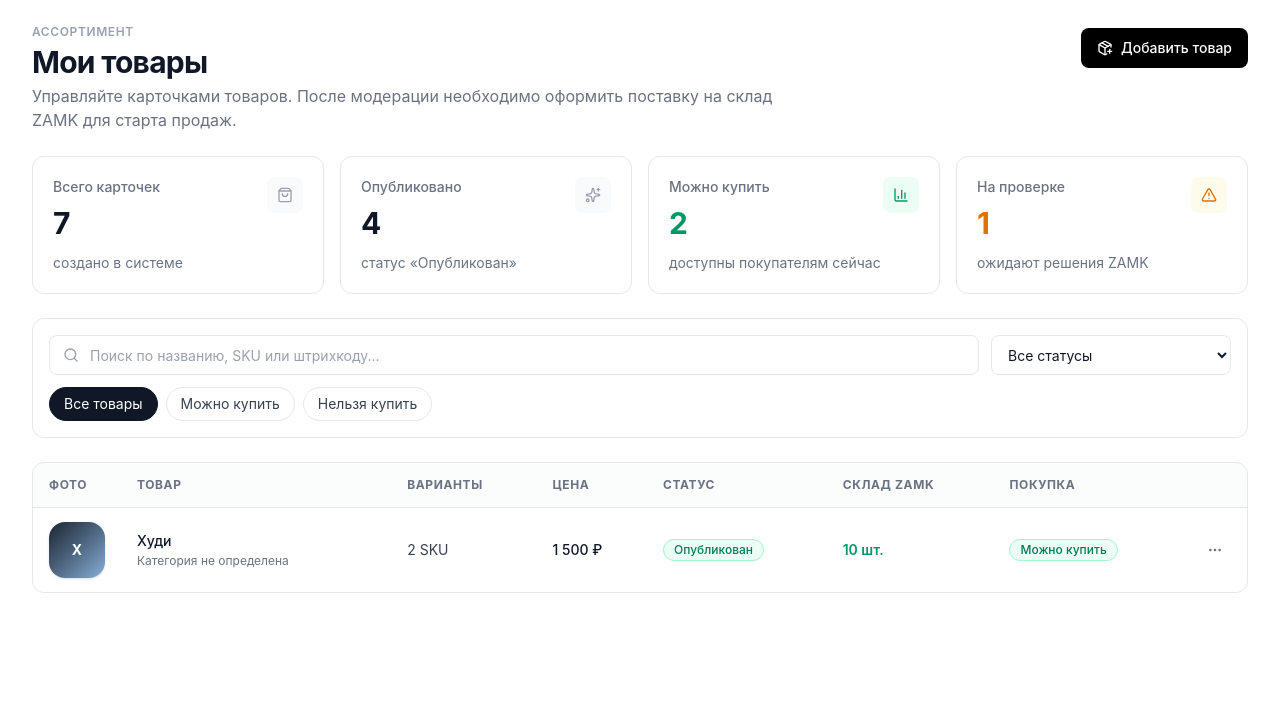
Scenario: SellerProducts — publication vs availability › G. a filter with no result shows a filtered empty state, not "no products yet"
The image size is (1280, 720).
Expected: the text "Худи" is shown, [137,532,172,549]
Click the button with test id "products-availability-unavailable".
click(368, 404)  # box [303,387,432,421]
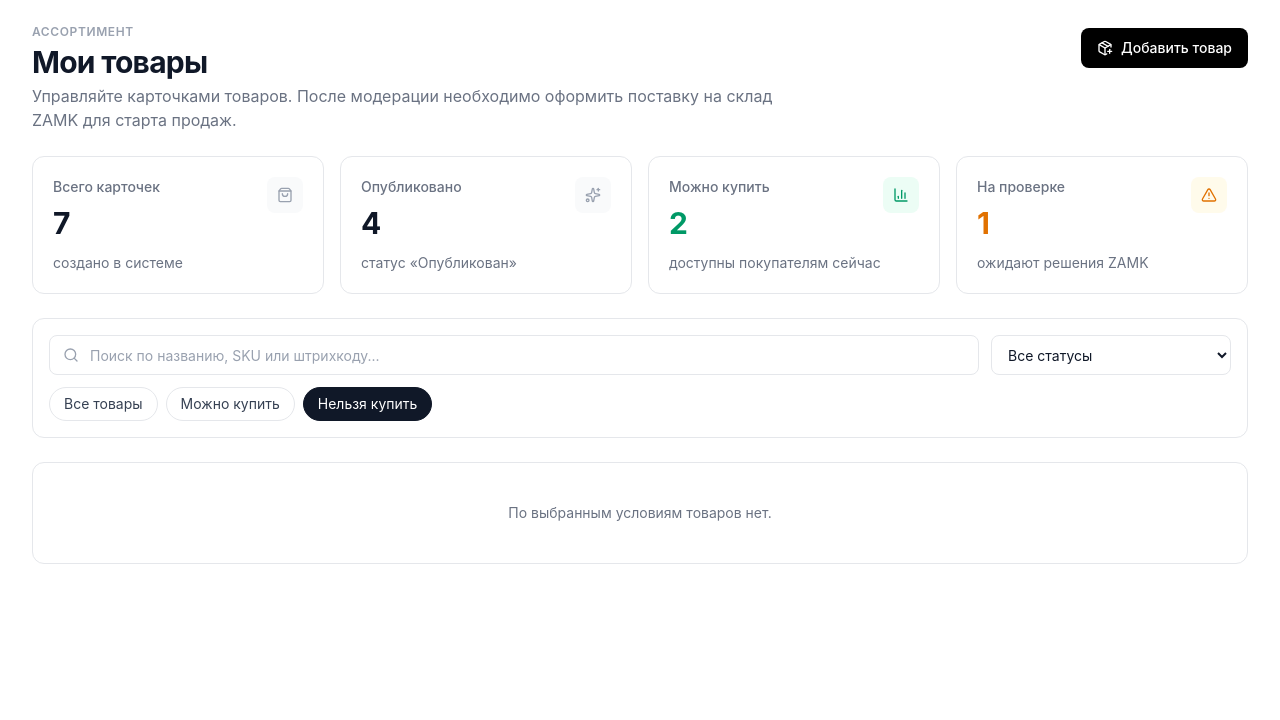
Now the text "По выбранным условиям товаров нет." is shown, box [32,462,1248,564]
